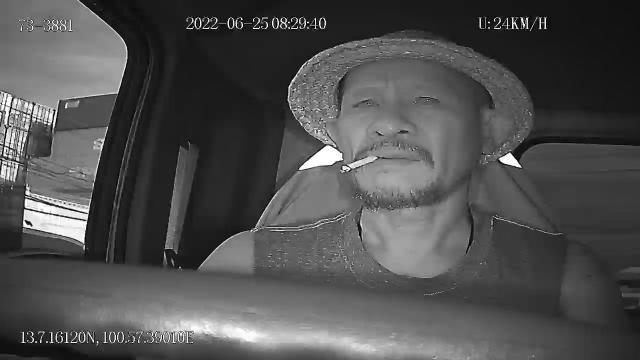SafeDriving: (346, 87, 384, 117), (406, 86, 446, 112)
Smoking: (342, 155, 378, 173)
